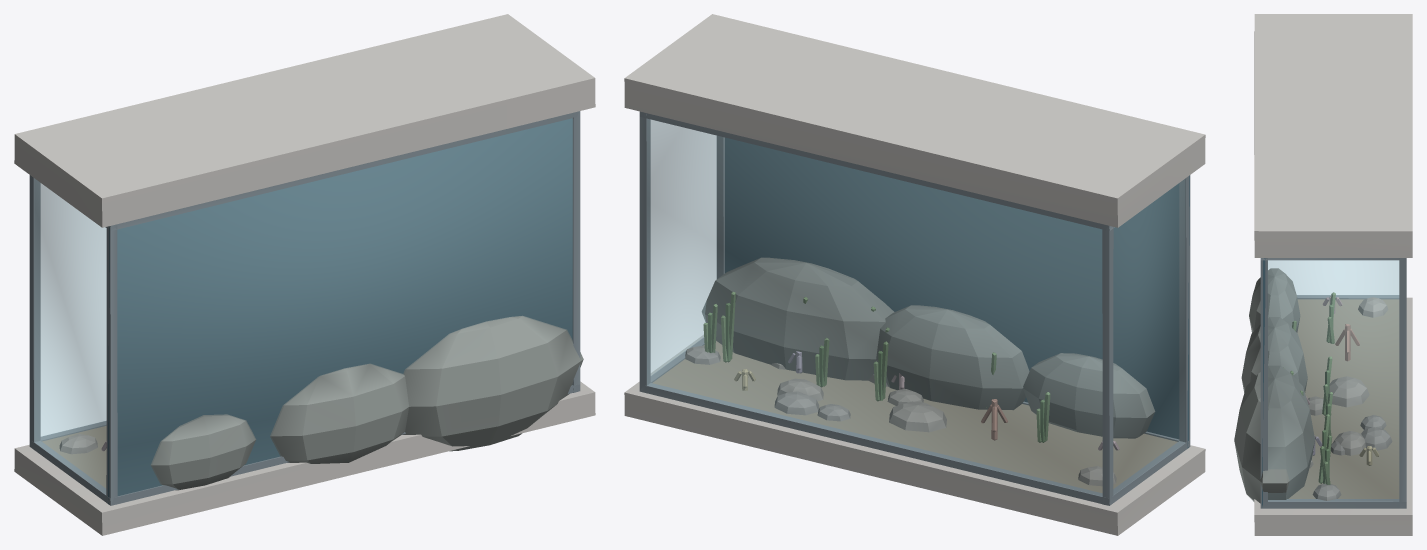
File: furn_aquarium_wall__white_low.glb
3 views of the same model, side by side, from view 1: azimuth 30°, elevation 25°; view 2: azimuth 150°, elevation 25°; view 3: azimuth 270°, elevation 25° (orthographic). The views are drawn at different scales.
Size of the model in its own units: 4.19 by 2.85 by 1.46.
